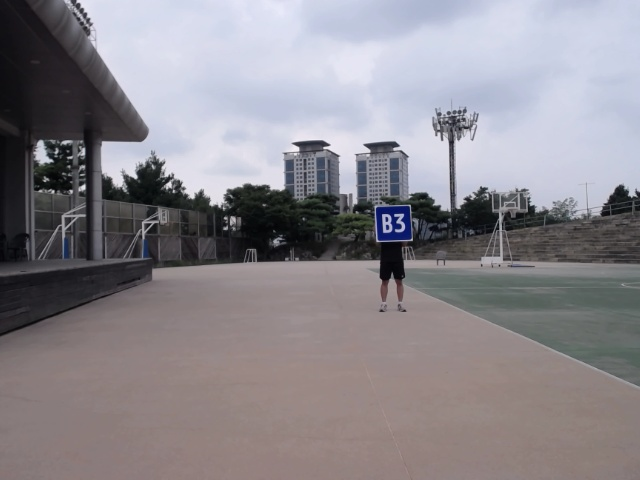delivery_b3: (373, 203, 414, 243)
